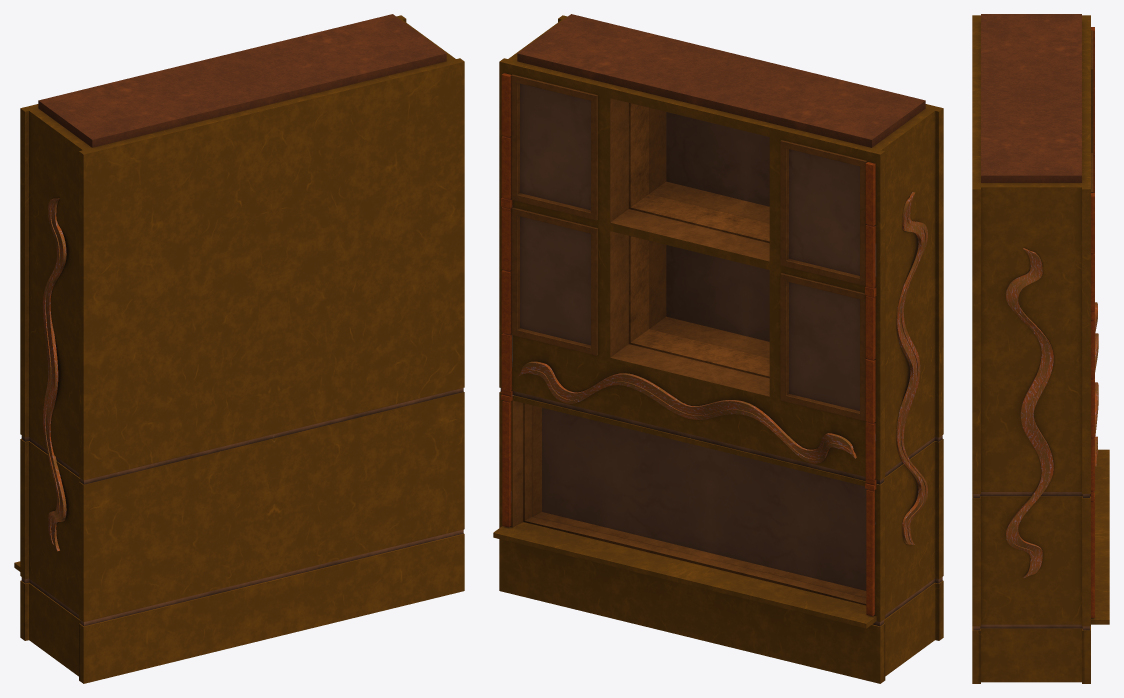
File: Wardrobe.fbx
3 renders of one model, left to right at view 1: azimuth 30°, elevation 25°; view 2: azimuth 150°, elevation 25°; view 3: azimuth 270°, elevation 25°, orthographic. The views are drawn at different scales.
Visible parts, largest first — view 1: Wardrobe, OrnamentSides; view 2: Wardrobe, OrnamentFront, OrnamentSides; view 3: Wardrobe, OrnamentSides, OrnamentFront.
Boxes of the visible parts, left/top/right/bottom form: Wardrobe: left=14, top=14, right=464, bottom=683; OrnamentSides: left=43, top=198, right=66, bottom=551; Wardrobe: left=493, top=14, right=943, bottom=683; OrnamentFront: left=518, top=361, right=856, bottom=463; OrnamentSides: left=896, top=192, right=927, bottom=544; Wardrobe: left=972, top=14, right=1109, bottom=683; OrnamentSides: left=1006, top=248, right=1053, bottom=578; OrnamentFront: left=1095, top=302, right=1098, bottom=466.
Size of the model in its own units: 330 by 439 by 109.
Materials: 3 (3 with a texture image).
